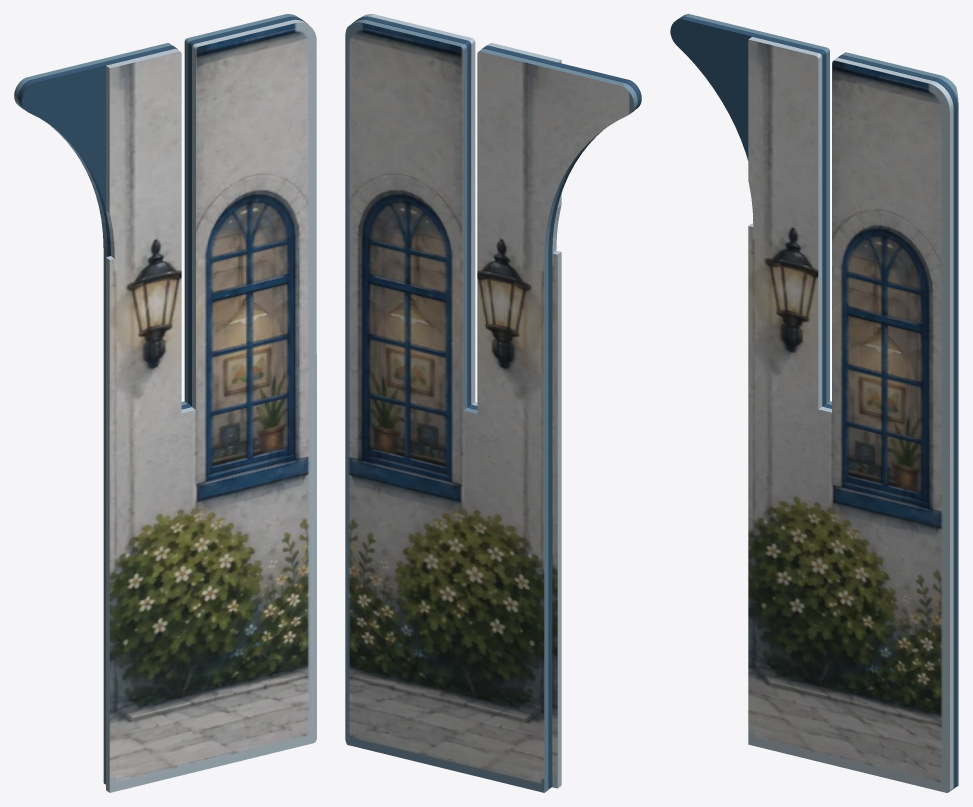
The model's file is door-panel-bottom-right-subpanel.glb.
3 renders of one model, left to right at view 1: azimuth 30°, elevation 25°; view 2: azimuth 150°, elevation 25°; view 3: azimuth 330°, elevation 25°, orthographic. The views are drawn at different scales.
Parts seen in each view (by area): view 1: door-panel-bottom-right-subpanel; view 2: door-panel-bottom-right-subpanel; view 3: door-panel-bottom-right-subpanel.
Boxes of the visible parts, left/top/right/bottom form: door-panel-bottom-right-subpanel: left=14, top=14, right=316, bottom=792; door-panel-bottom-right-subpanel: left=345, top=14, right=641, bottom=792; door-panel-bottom-right-subpanel: left=670, top=14, right=958, bottom=792.
Bounding box in the file's own units: 389 × 925 × 27.
5 materials, 2 textured.
